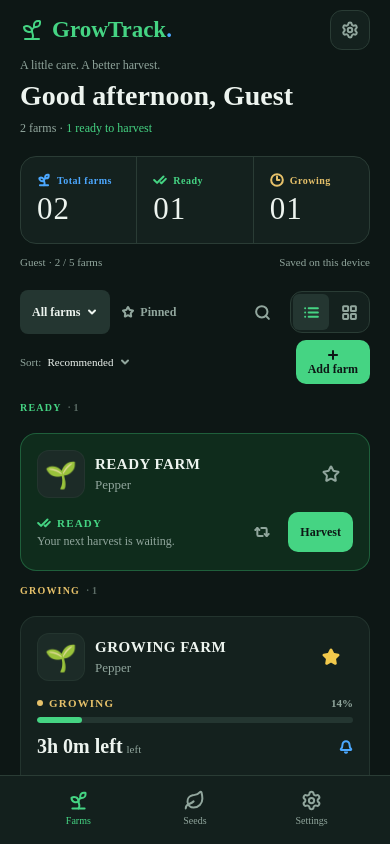
Test: DashboardScreen Toolbar & Filter Dropdown › opens dropdown menu showing "SHOW FARMS" and all 5 options when clicked
Check: the text "SHOW FARMS" is not shown
// Click filter button to open dropdown
Click the button with aria-label "Filter farms: All farms": (65, 312) [20,290,110,334]
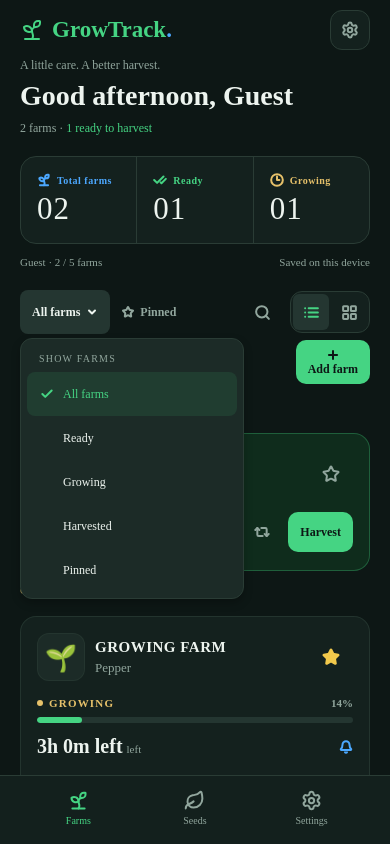
Check: the text "SHOW FARMS" is shown, box [39,353,116,364]
Check: the number of menu items is 5, box [27,372,237,416]; [63,430,94,444]; [63,474,106,488]; [63,518,112,532]; [63,562,96,576]
